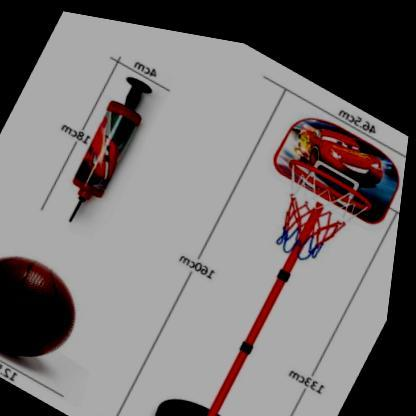basketball: (0, 232, 102, 376)
rim: (254, 140, 380, 270)
